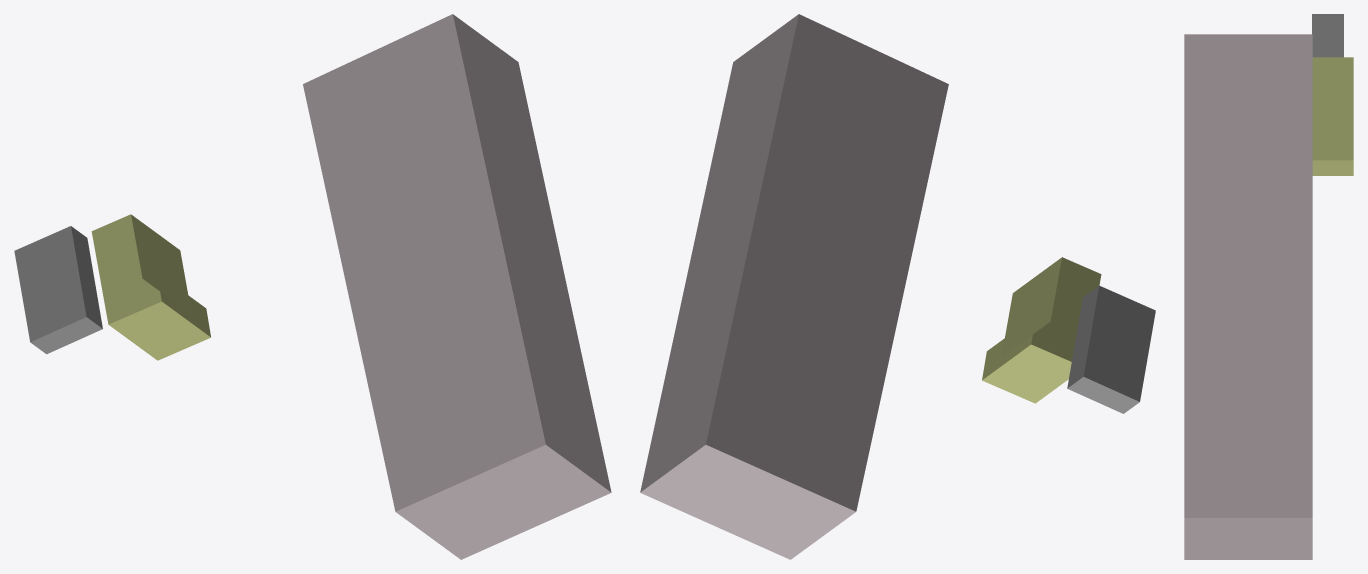
3 renders of one model, left to right at view 1: azimuth 30°, elevation 25°; view 2: azimuth 150°, elevation 25°; view 3: azimuth 270°, elevation 25°, orthographic. The views are drawn at different scales.
Visible parts, largest first — view 1: 0_1_2_0_1_3_3_0_2; view 2: 0_1_2_0_1_3_3_0_2; view 3: 0_1_2_0_1_3_3_0_2.
Boxes of the visible parts, <box> form: 0_1_2_0_1_3_3_0_2: <box>14,14,611,559</box>; 0_1_2_0_1_3_3_0_2: <box>640,14,1155,559</box>; 0_1_2_0_1_3_3_0_2: <box>1184,14,1353,559</box>.
Bounding box in the file's own units: 54.32 × 48.73 × 15.85.
